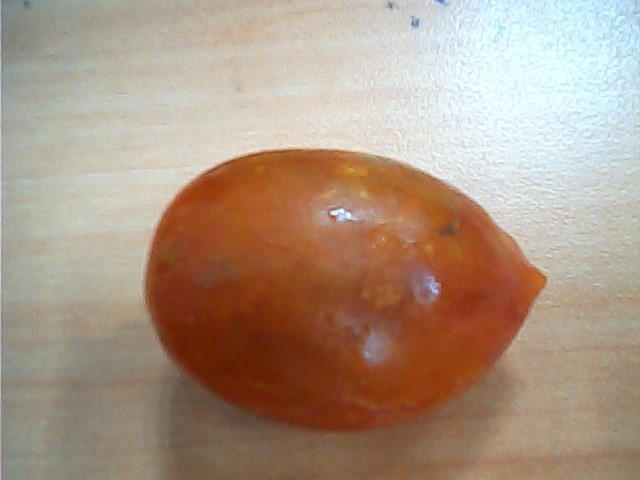defectuoso: (140, 148, 551, 429)
